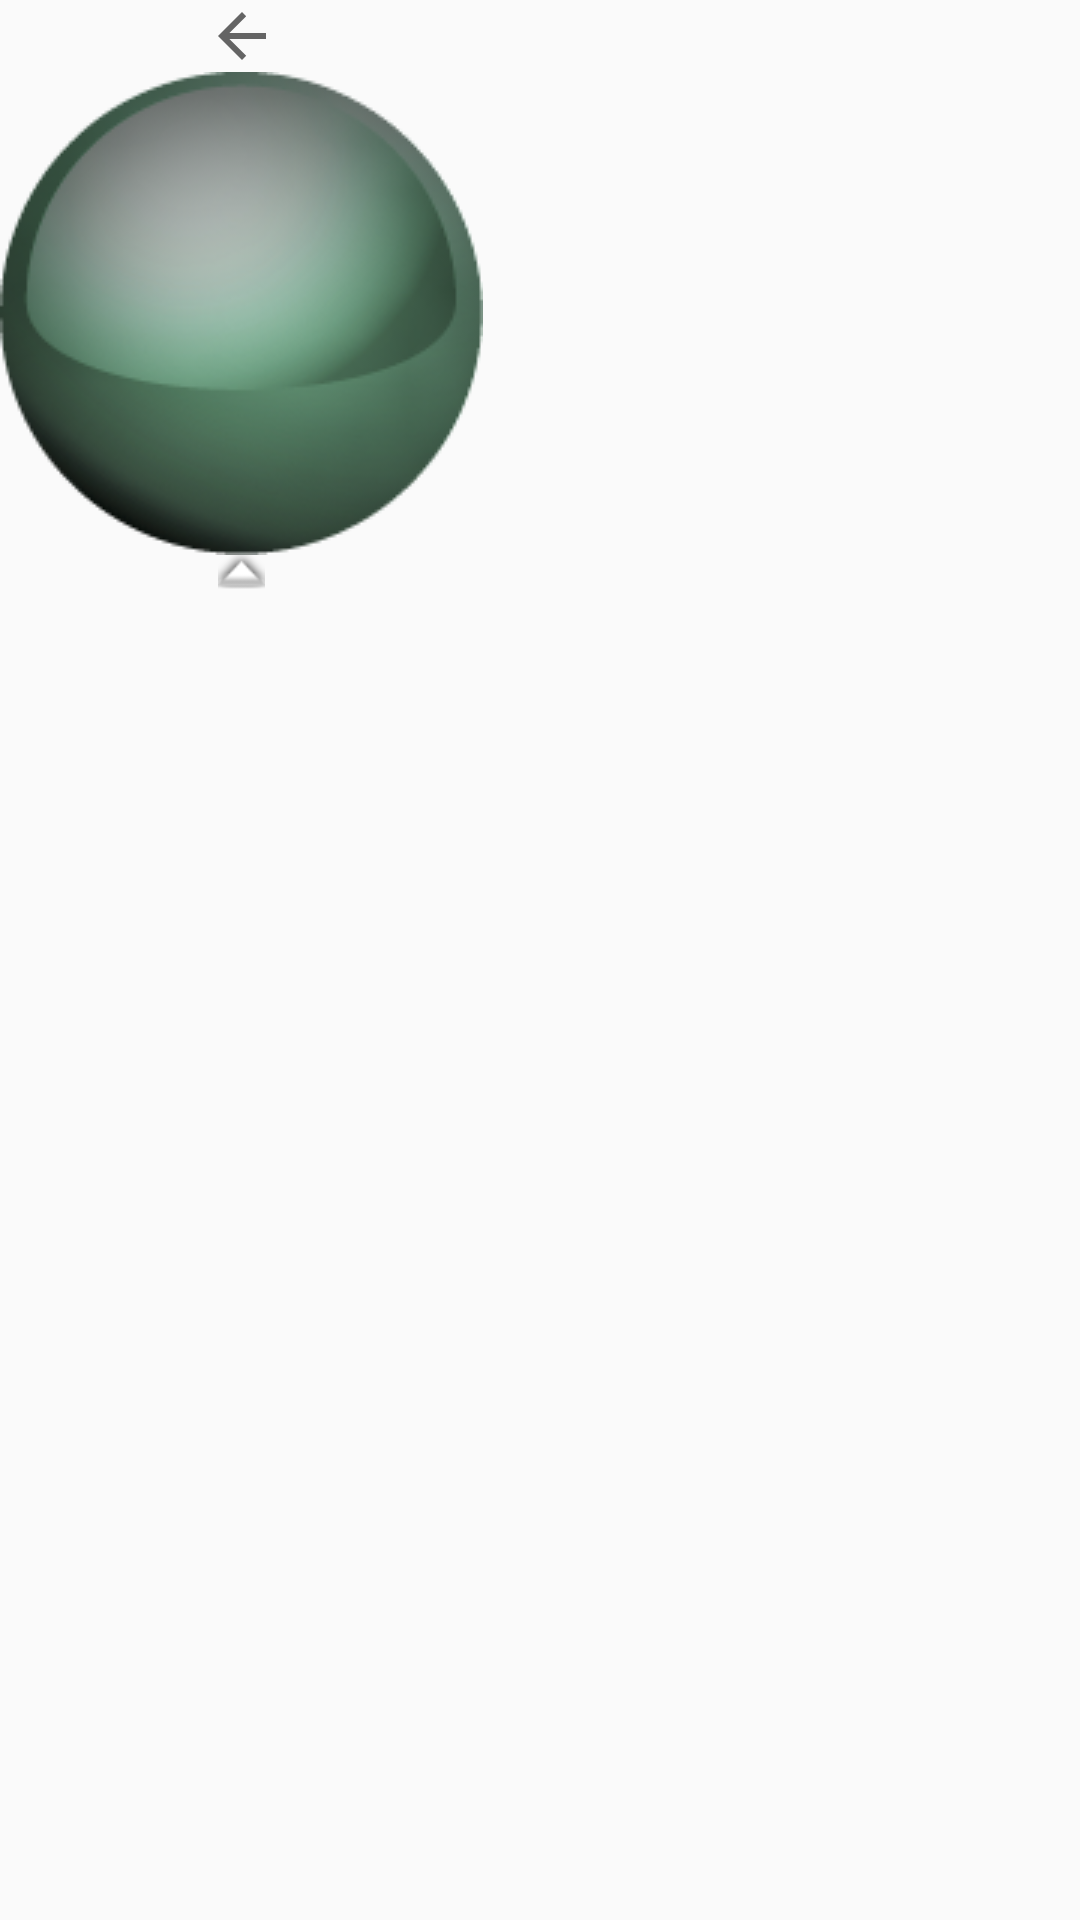

Screen size 1080*1920. Icon name, then its center in pixels as point (x, y):
arrow up float: point (241, 572)
